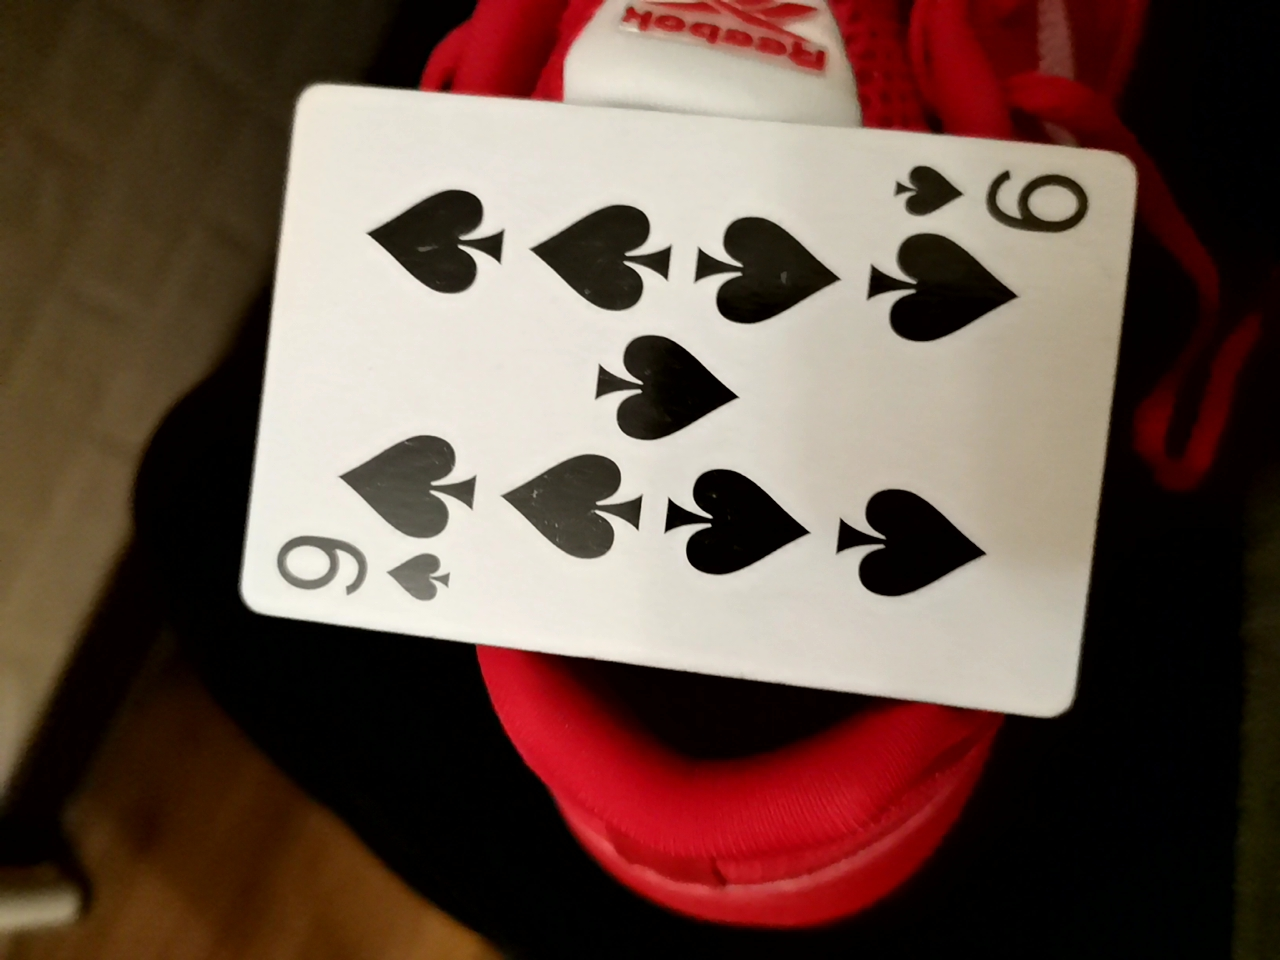ht 9: (227, 84, 1117, 731)
